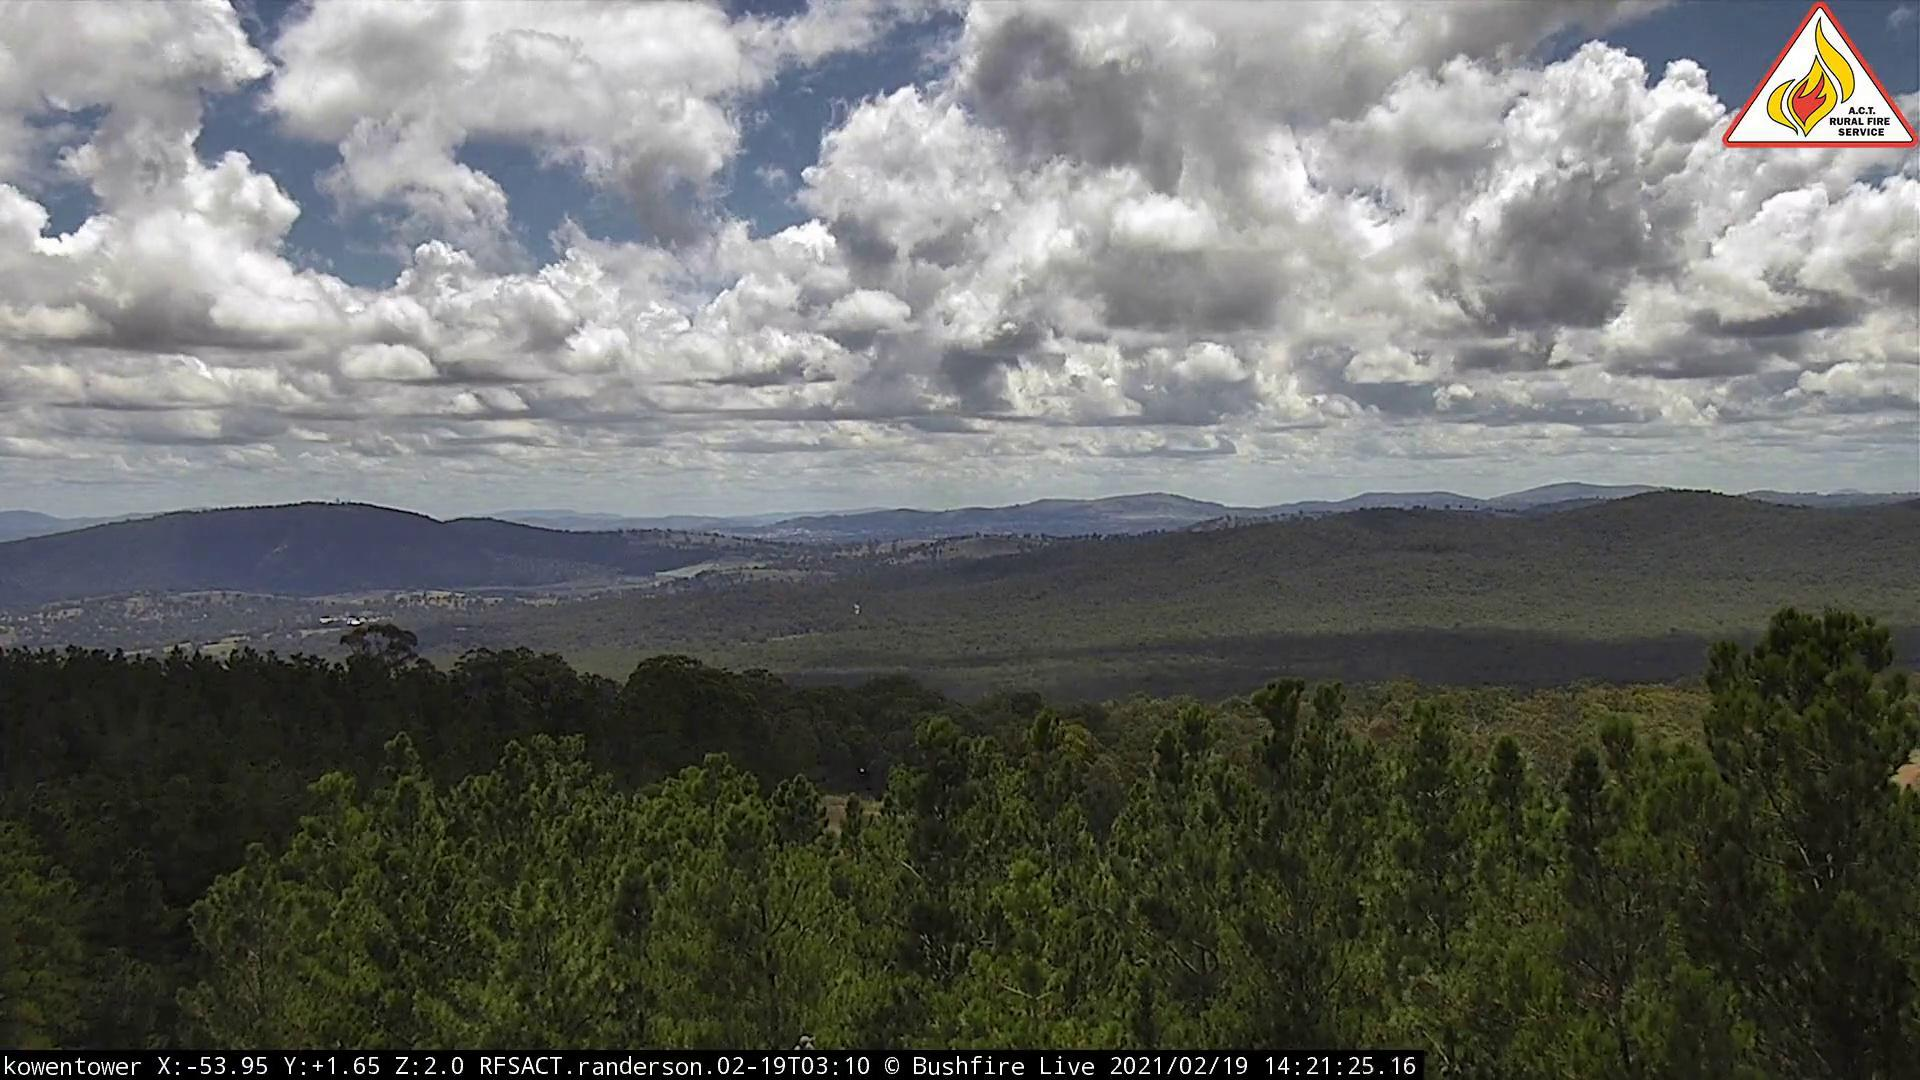instance_salient_object: (965, 520, 1006, 545)
